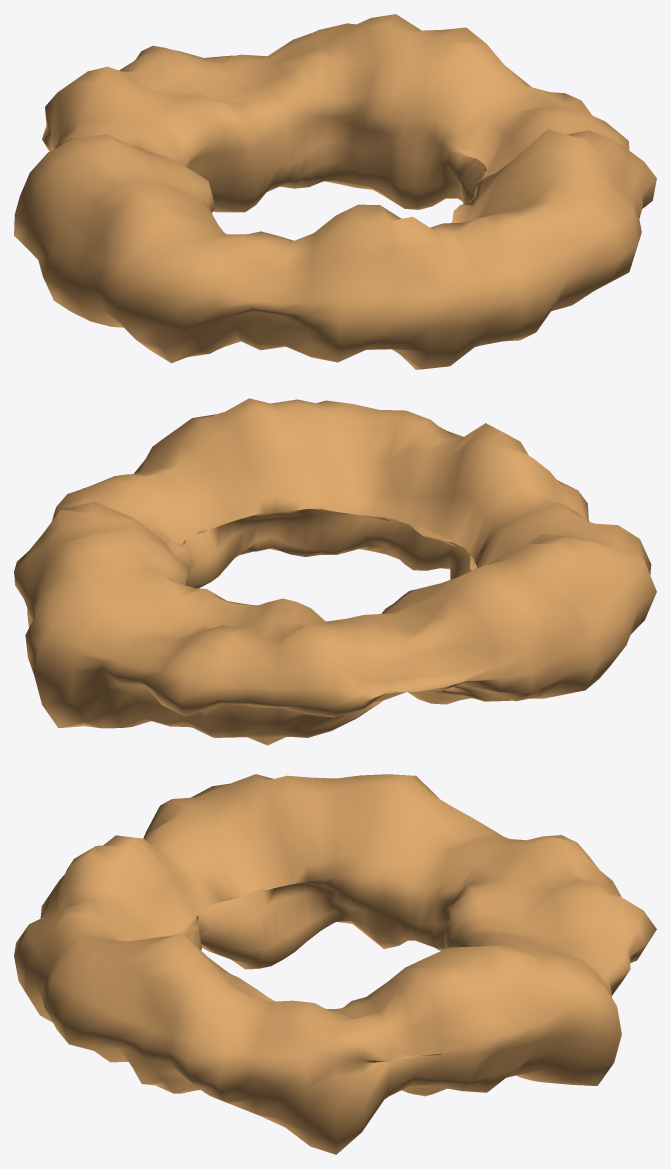
File: hole.fbx
The picture shows the model from 3 angles, top to bottom: view 1: azimuth 30°, elevation 25°; view 2: azimuth 150°, elevation 25°; view 3: azimuth 270°, elevation 25°; orthographic projection. The views are drawn at different scales.
Visible parts, largest first — view 1: Circle.022; view 2: Circle.022; view 3: Circle.022.
Boxes of the visible parts, box(x1,y1,x2,y2) form: Circle.022: box(14, 14, 656, 369); Circle.022: box(14, 398, 656, 745); Circle.022: box(14, 774, 656, 1154).
Bounding box in the file's own units: 3.27 × 1.05 × 3.4.
